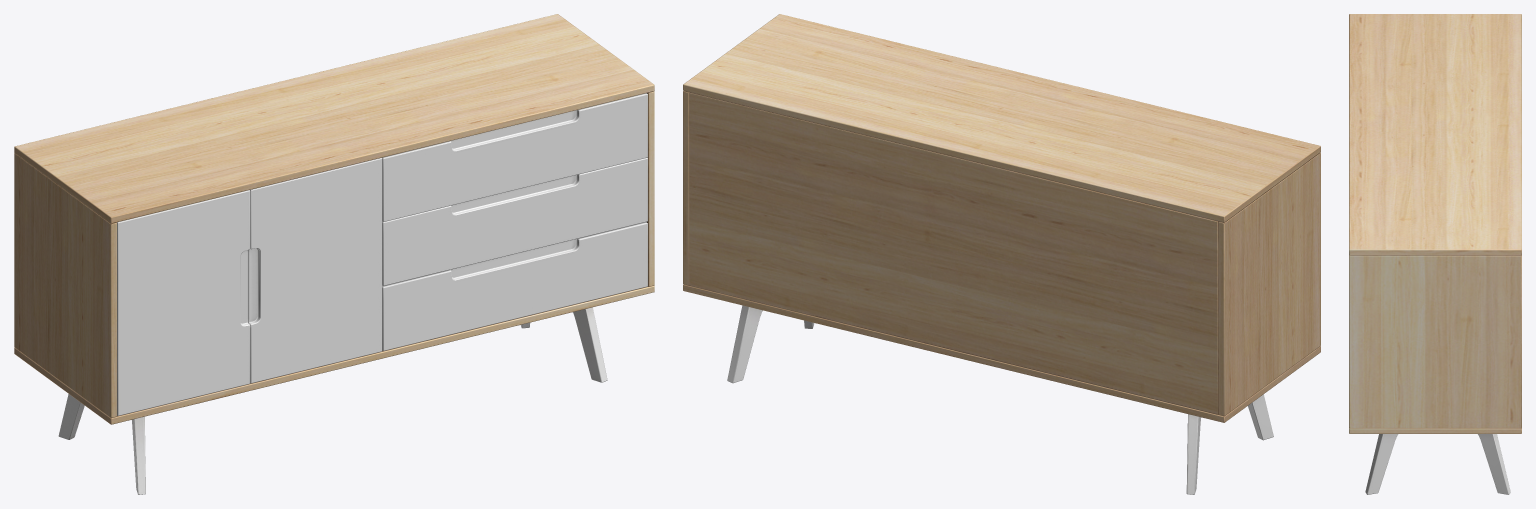
File: jenson_sideboard_solid_oak.glb
3 renders of one model, left to right at view 1: azimuth 30°, elevation 25°; view 2: azimuth 150°, elevation 25°; view 3: azimuth 270°, elevation 25°, orthographic. The views are drawn at different scales.
Parts seen in each view (by area): view 1: DARK_STAIN_OAK; view 2: DARK_STAIN_OAK; view 3: DARK_STAIN_OAK.
Part boxes in pixels (box(x1,y1,x2,y2)): DARK_STAIN_OAK: box(14, 14, 654, 494); DARK_STAIN_OAK: box(683, 14, 1320, 494); DARK_STAIN_OAK: box(1349, 14, 1521, 494).
Size of what is drawn, in the model's own units: 155 by 80.23 by 48.
Materials: 2 (1 with a texture image).
